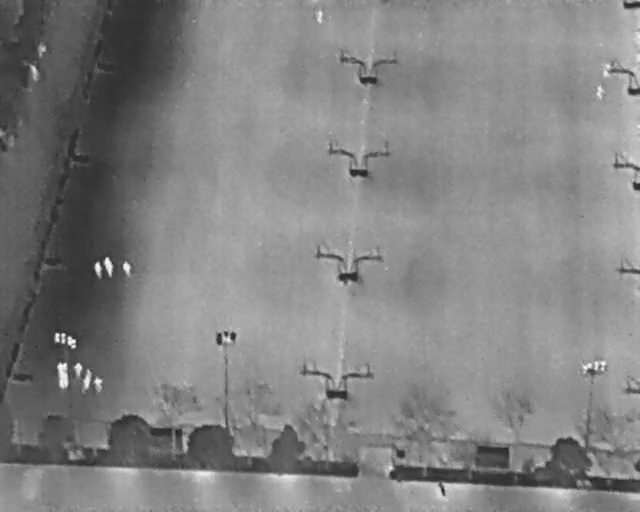Person: (77, 368, 96, 397), (54, 361, 71, 391), (102, 256, 115, 281), (91, 259, 105, 280), (91, 375, 105, 396), (121, 260, 135, 280), (73, 361, 83, 379), (596, 84, 604, 100), (316, 9, 324, 24), (604, 63, 612, 77)
